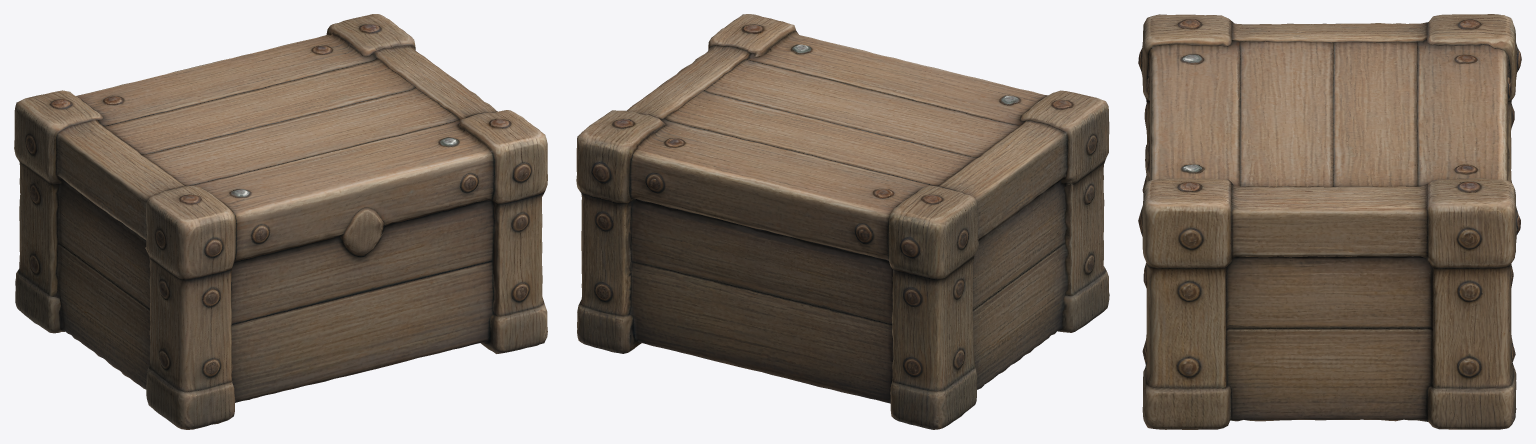
The model's file is Furn_Crate.fbx.
3 renders of one model, left to right at view 1: azimuth 30°, elevation 25°; view 2: azimuth 150°, elevation 25°; view 3: azimuth 270°, elevation 25°, orthographic. The views are drawn at different scales.
Visible parts, largest first — view 1: texture_mapping; view 2: texture_mapping; view 3: texture_mapping.
Part boxes in pixels (box(x1,y1,x2,y2)): texture_mapping: box(14, 14, 547, 429); texture_mapping: box(576, 14, 1109, 429); texture_mapping: box(1138, 14, 1521, 429).
Size of the model in its own units: 1 by 0.8255 by 0.5589.
1 material, 1 textured.
